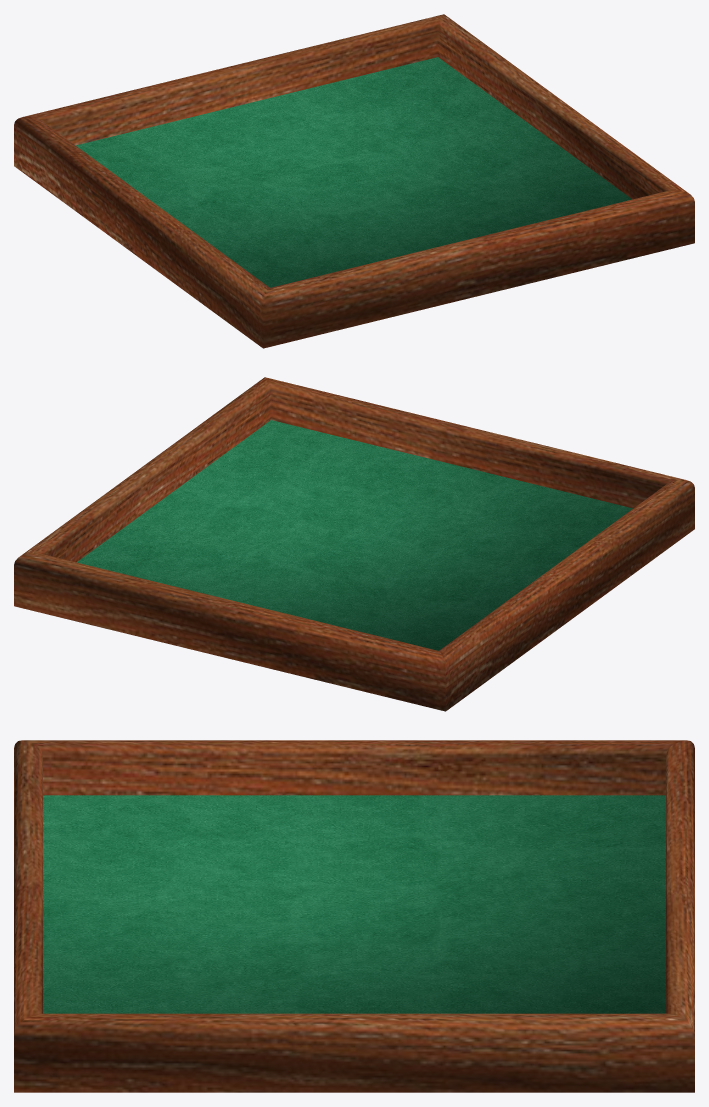
Rendered from table.glb.
The picture shows the model from 3 angles, top to bottom: view 1: azimuth 30°, elevation 25°; view 2: azimuth 150°, elevation 25°; view 3: azimuth 270°, elevation 25°; orthographic projection. The views are drawn at different scales.
Parts seen in each view (by area): view 1: Cube; view 2: Cube; view 3: Cube.
Part boxes in pixels (box(x1,y1,x2,y2)): Cube: box(14, 14, 694, 348); Cube: box(14, 377, 694, 711); Cube: box(14, 740, 694, 1092).
Size of the model in its own units: 1.09 by 0.1232 by 1.09.
Materials: 2 (2 with a texture image).
